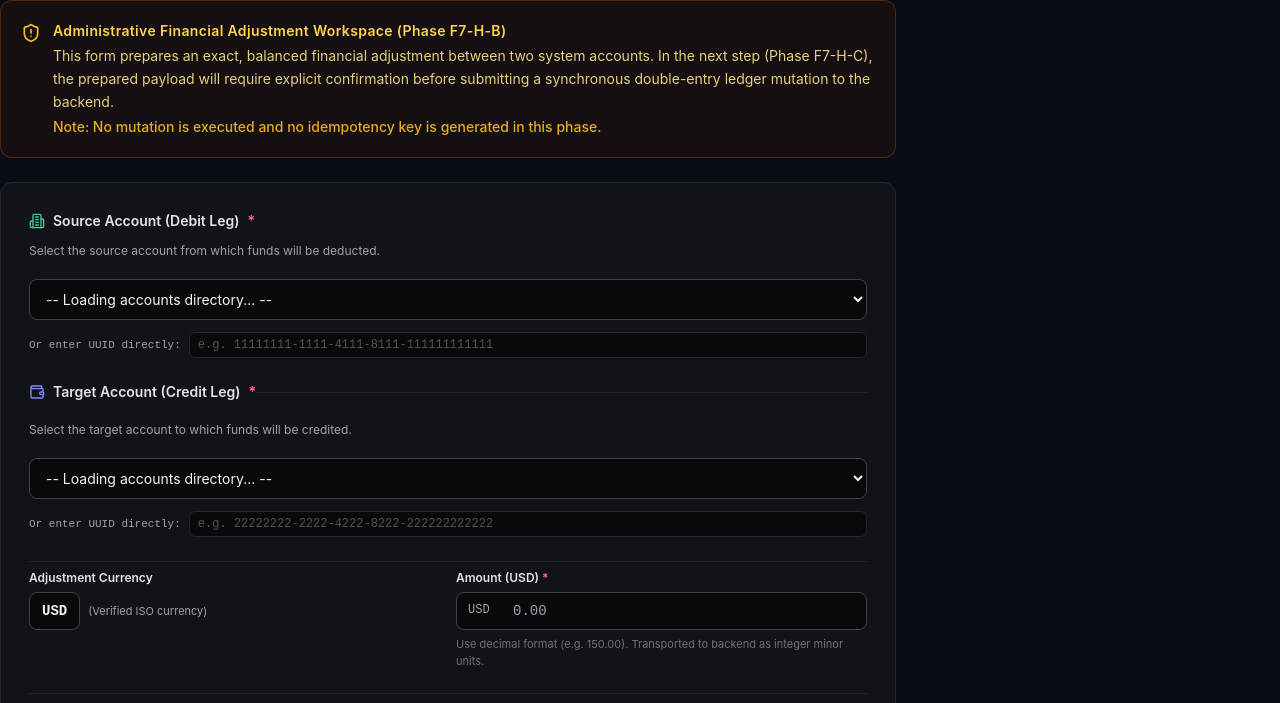
Scenario: Phase F7-H-B Admin Financial Adjustment Workspace & Form Component › Account Selection & Context Display › supports direct UUID typing into raw input fallback
Type "11111111-1111-4111-8111-111111111111" into the field with placeholder "e.g. 11111111-1111-4111-8111-111111111111" below "Source Account (Debit Leg)" at coordinates (528, 345), box [189, 332, 867, 358]
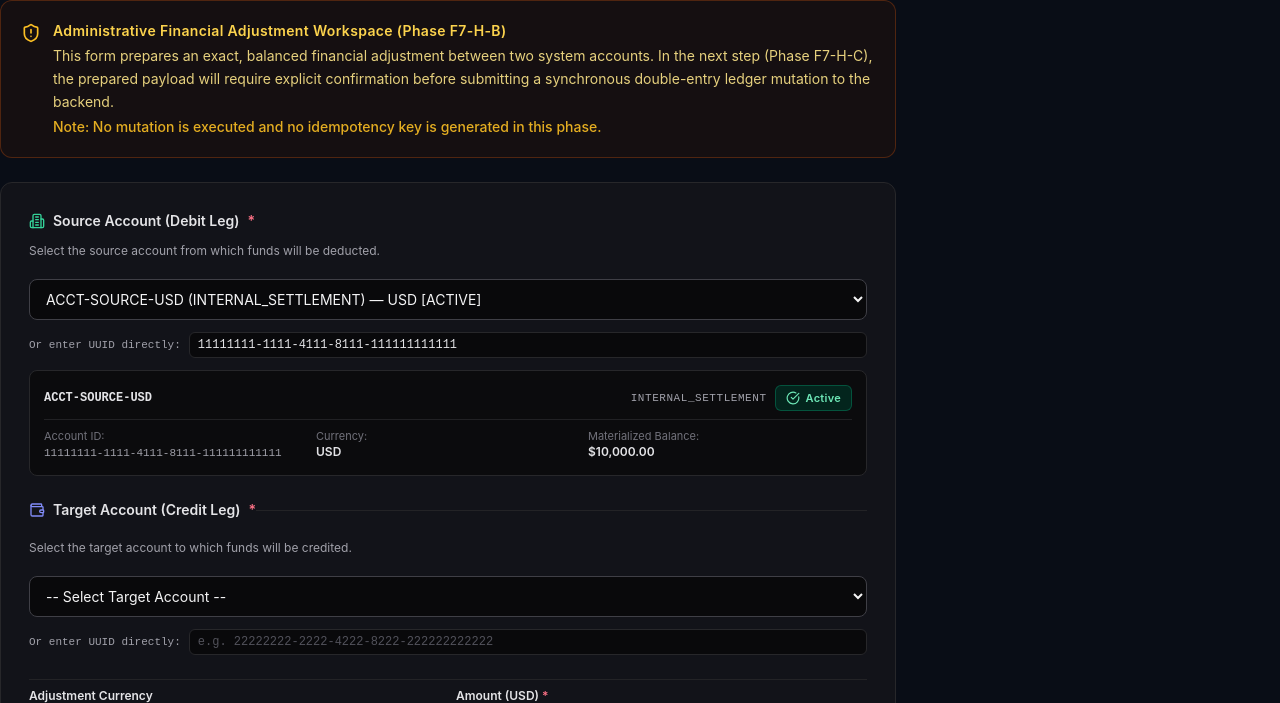
Check: the element with test id "source-account-card" is shown, box [29, 370, 867, 476]
Check: the text "ACCT-SOURCE-USD" is shown, box [44, 390, 152, 406]
